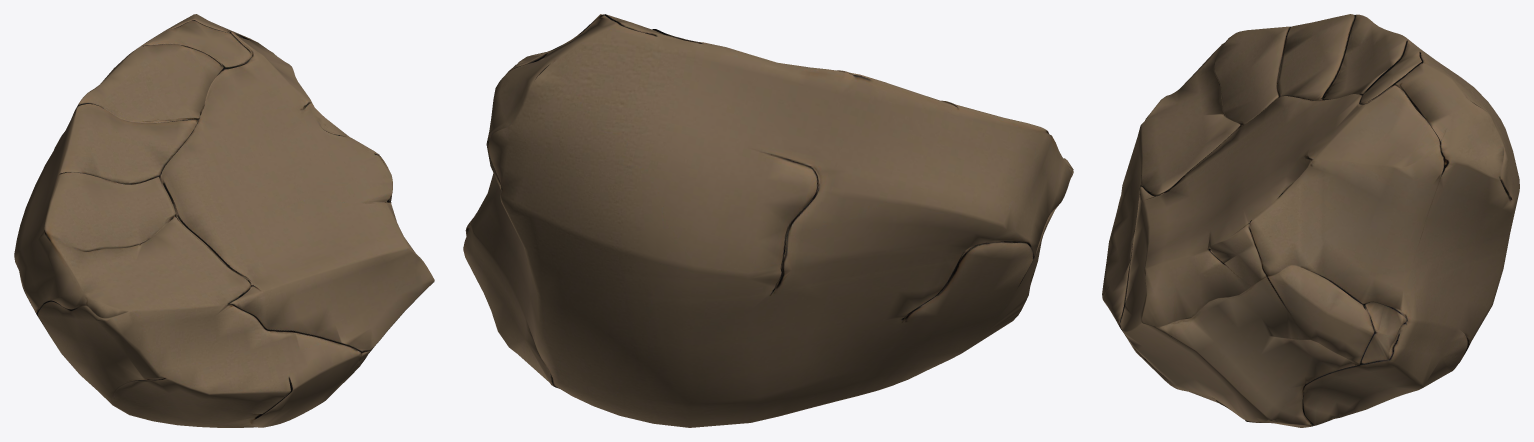
The model's file is q3d-08-mid-l30.glb.
The picture shows the model from 3 angles, left to right: view 1: azimuth 30°, elevation 25°; view 2: azimuth 150°, elevation 25°; view 3: azimuth 270°, elevation 25°; orthographic projection. The views are drawn at different scales.
Size of the model in its own units: 1.35 by 1.08 by 1.23.
1 material, 1 textured.
